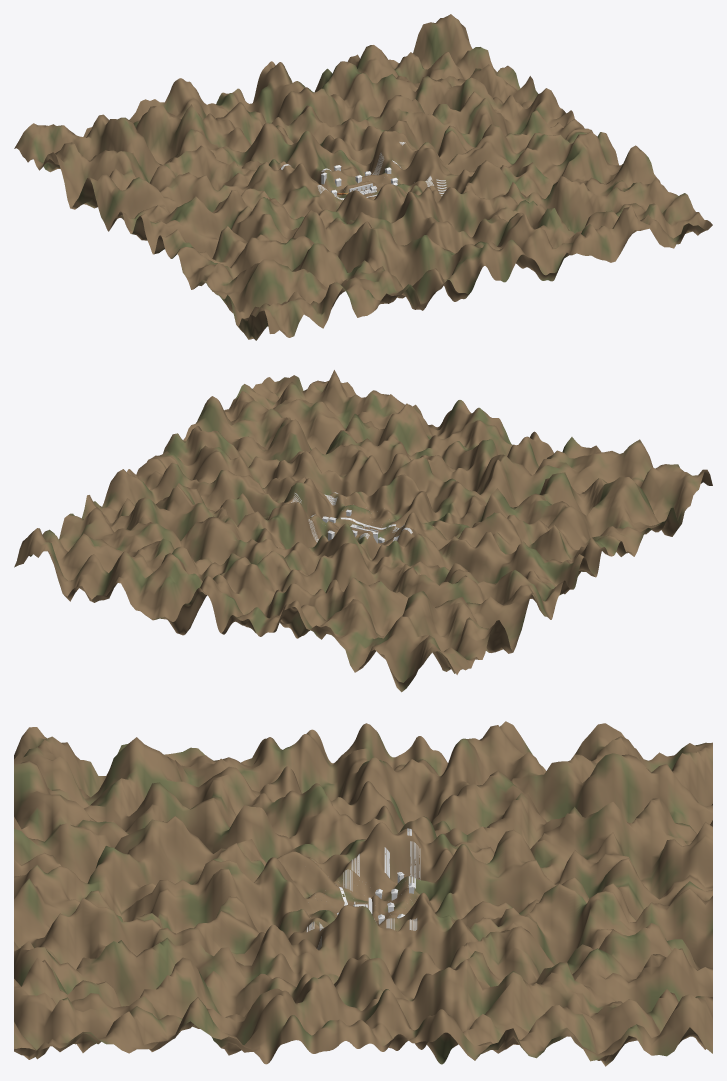
Rendered from wuqi.glb.
3 views of the same model, one above another, from view 1: azimuth 30°, elevation 25°; view 2: azimuth 150°, elevation 25°; view 3: azimuth 270°, elevation 25° (orthographic). The views are drawn at different scales.
Visible parts, largest first — view 1: Continuous terrain; view 2: Continuous terrain; view 3: Continuous terrain, Historic cropgreen.
Boxes of the visible parts, x1,y1,x2,y2 form: Continuous terrain: (14, 14, 712, 340); Continuous terrain: (14, 370, 712, 692); Continuous terrain: (14, 721, 712, 1066); Historic cropgreen: (307, 828, 420, 949).
Bounding box in the file's own units: 574 × 98.25 × 574.
Materials: 41 (20 with a texture image).
